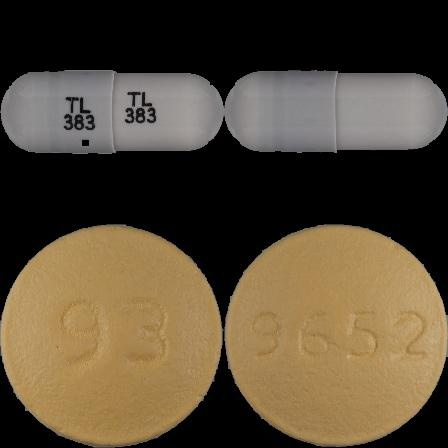68788-9817: (0, 0, 224, 224)
